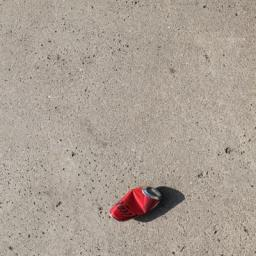FOD: (106, 180, 189, 228)
